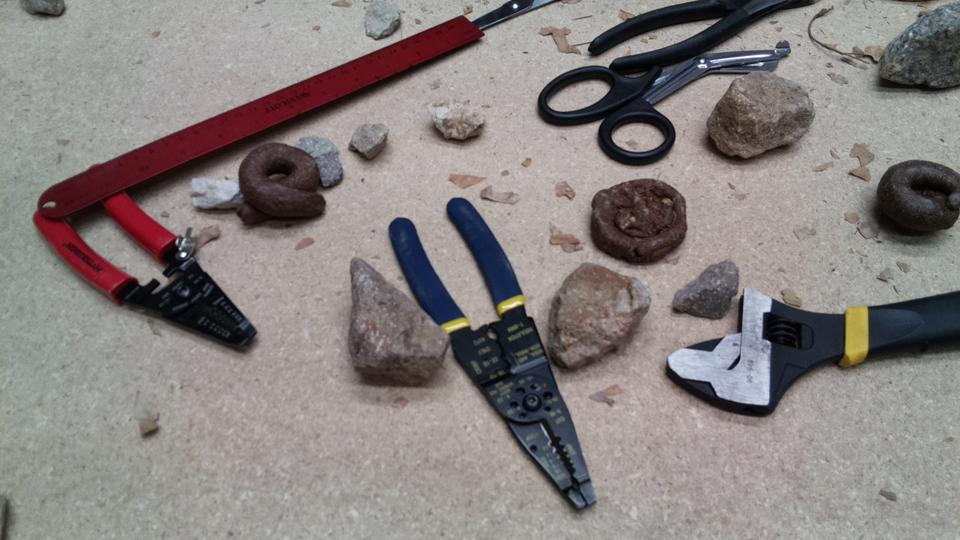poop: (588, 176, 690, 269), (235, 138, 326, 229), (874, 157, 960, 239)
